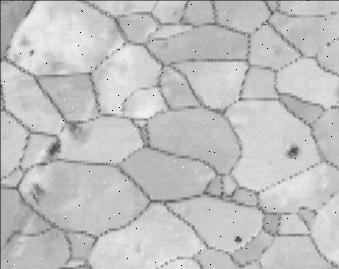good_void: (29, 181, 46, 205), (65, 121, 86, 140), (46, 135, 62, 159), (283, 143, 300, 161), (226, 231, 243, 244), (26, 47, 38, 61)
